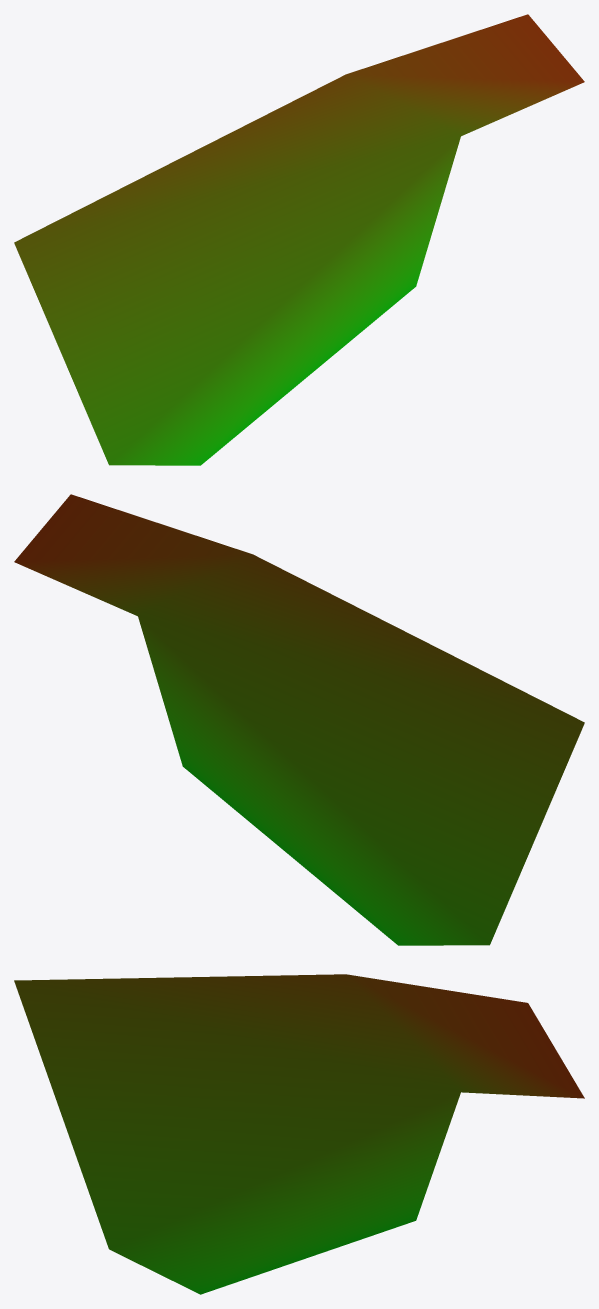
The model's file is Fern_LOD3_Var10_sbslY.fbx.
3 renders of one model, top to bottom at view 1: azimuth 30°, elevation 25°; view 2: azimuth 150°, elevation 25°; view 3: azimuth 330°, elevation 25°, orthographic.
Parts seen in each view (by area): view 1: _6148_Var10_LOD3; view 2: _6148_Var10_LOD3; view 3: _6148_Var10_LOD3.
Part boxes in pixels (box(x1,y1,x2,y2)): _6148_Var10_LOD3: box(14, 14, 584, 465); _6148_Var10_LOD3: box(14, 494, 584, 945); _6148_Var10_LOD3: box(14, 974, 584, 1294).
Size of the model in its own units: 130 by 80.62 by 2.29e-05.
